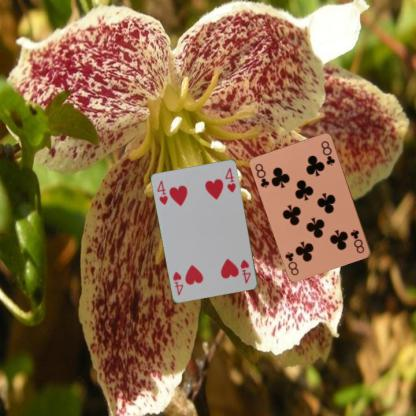4h: (238, 257, 252, 285), (155, 178, 169, 206)
8c: (252, 161, 271, 189), (348, 227, 366, 255)
